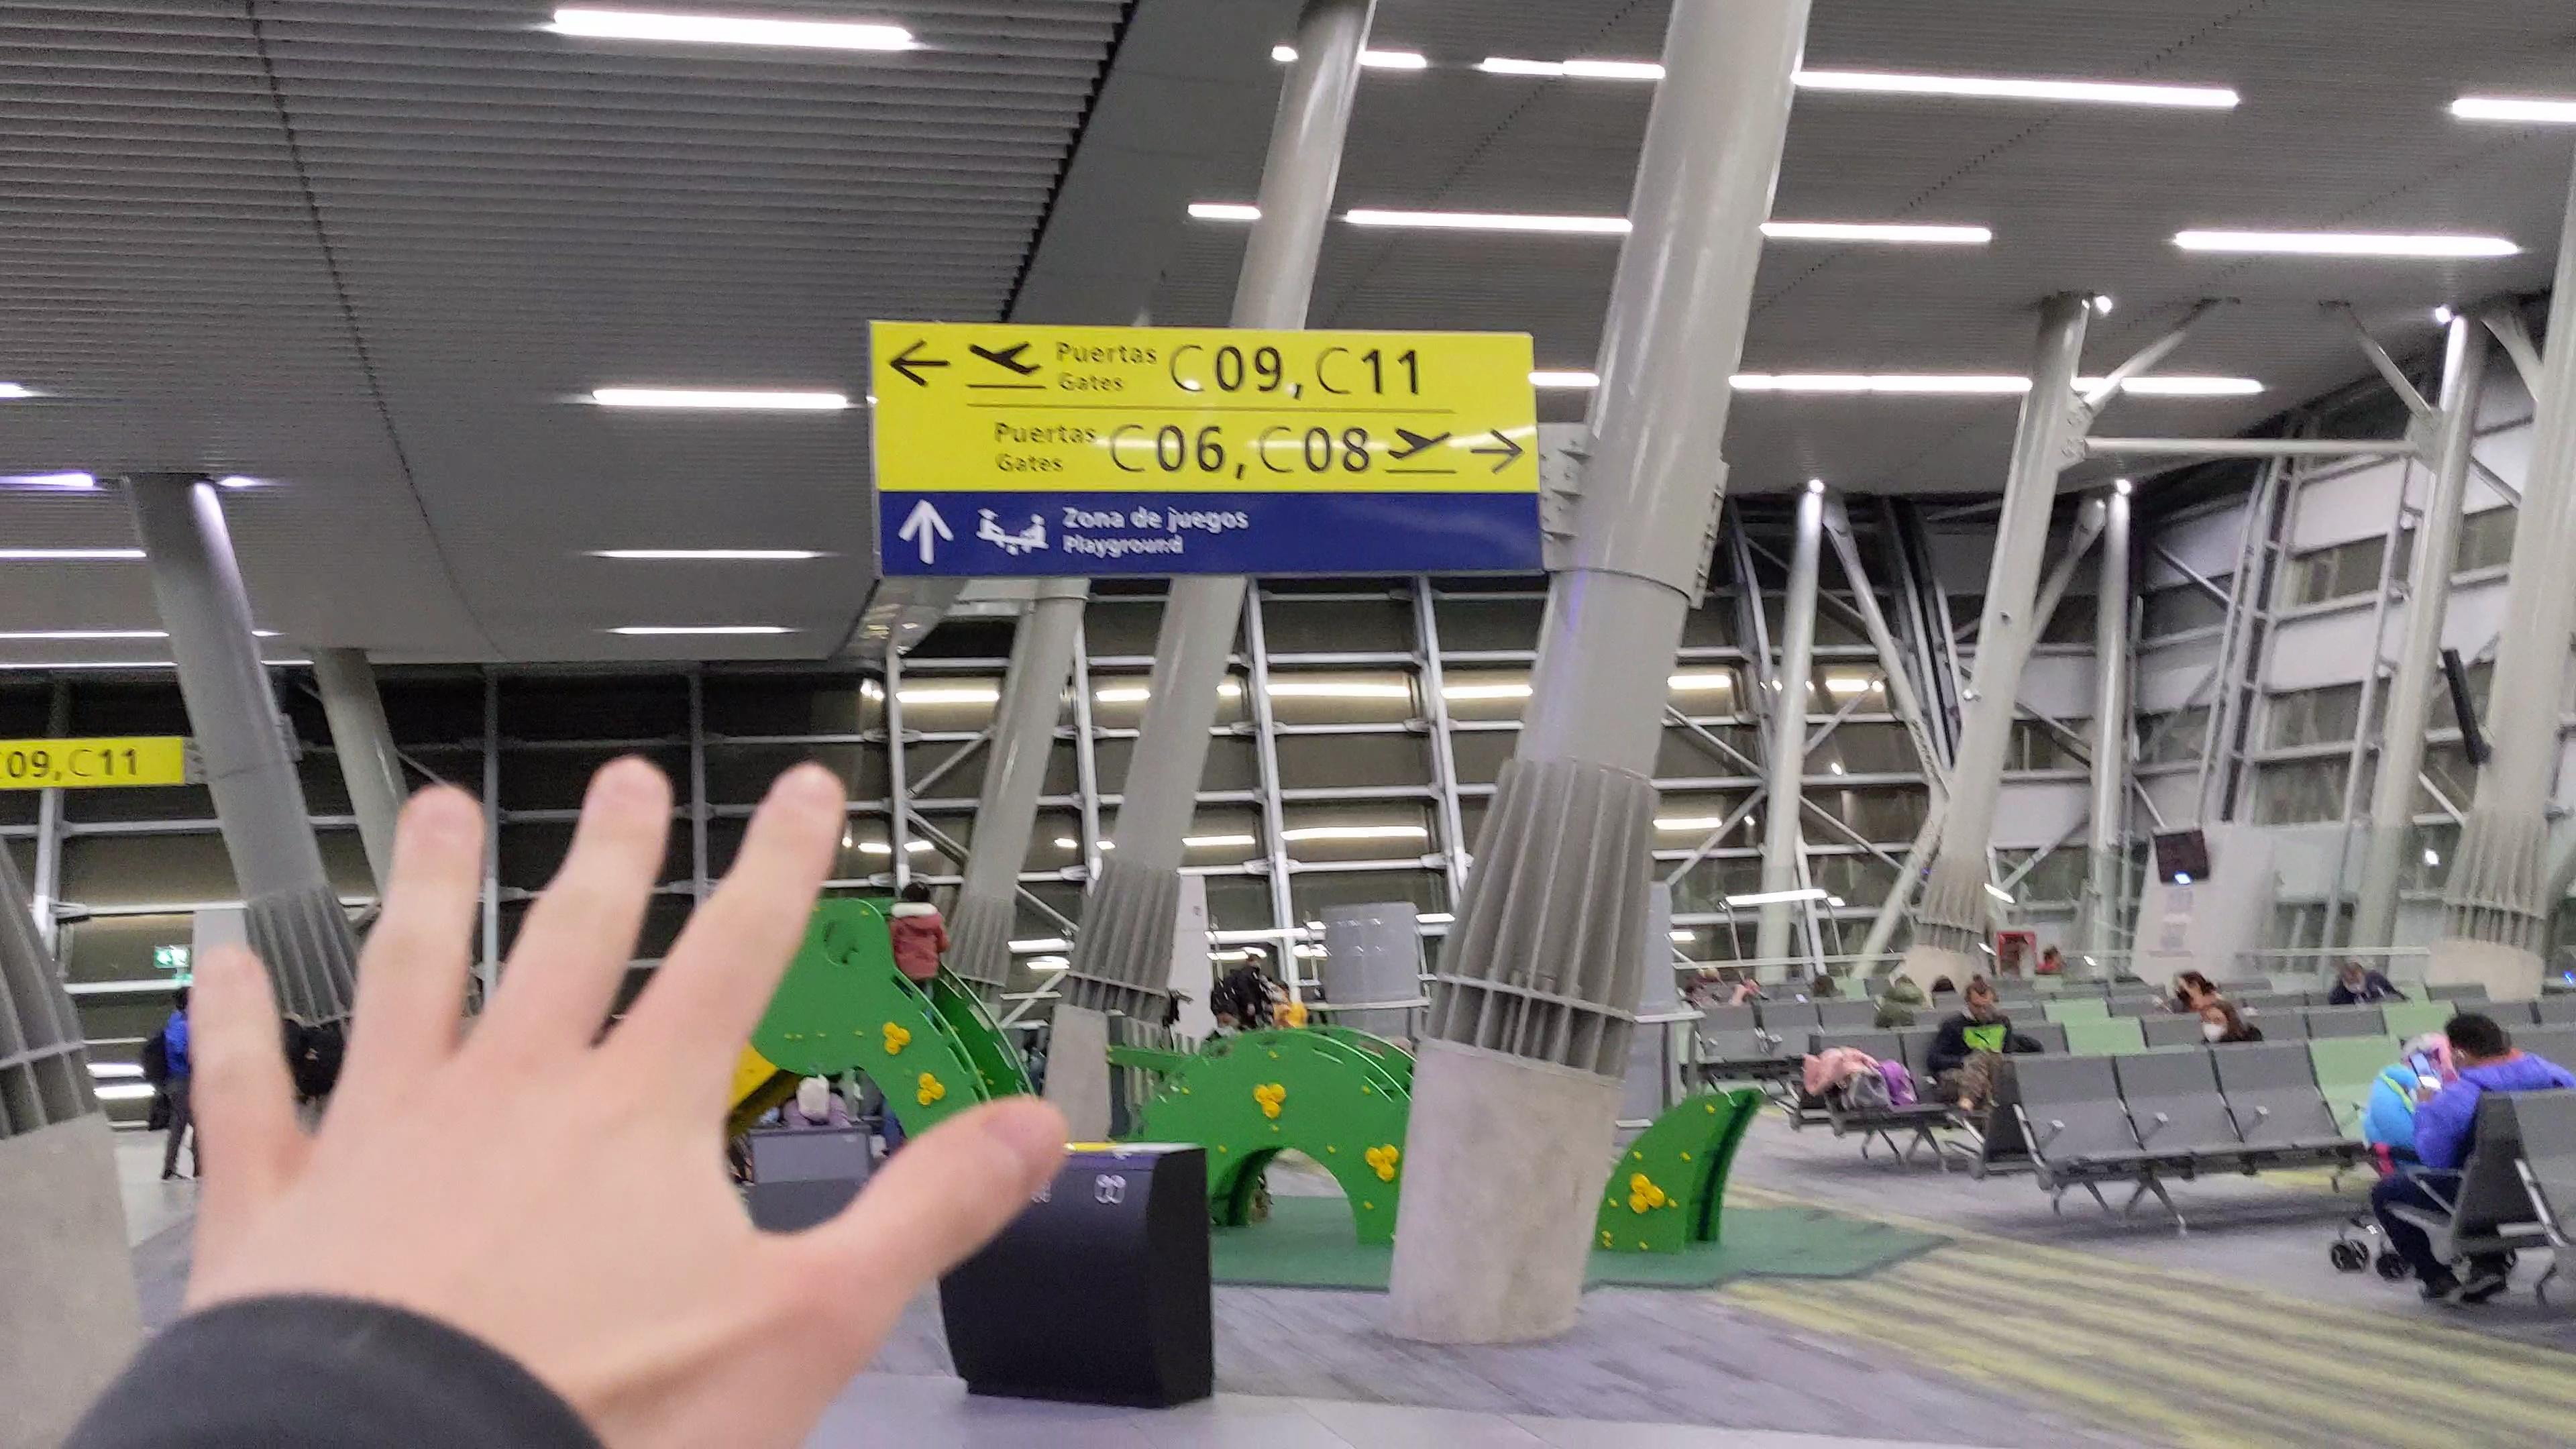airplane symbol: (964, 338, 1046, 382), (1385, 426, 1454, 464)
thin left arrow: (885, 336, 954, 391), (1465, 426, 1529, 478)
thin up arrow: (895, 497, 955, 566)
